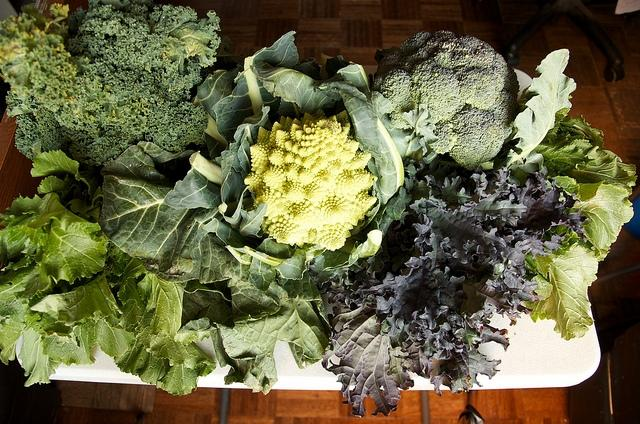broccoli: (373, 30, 522, 170)
cauliflower: (244, 109, 379, 250)
